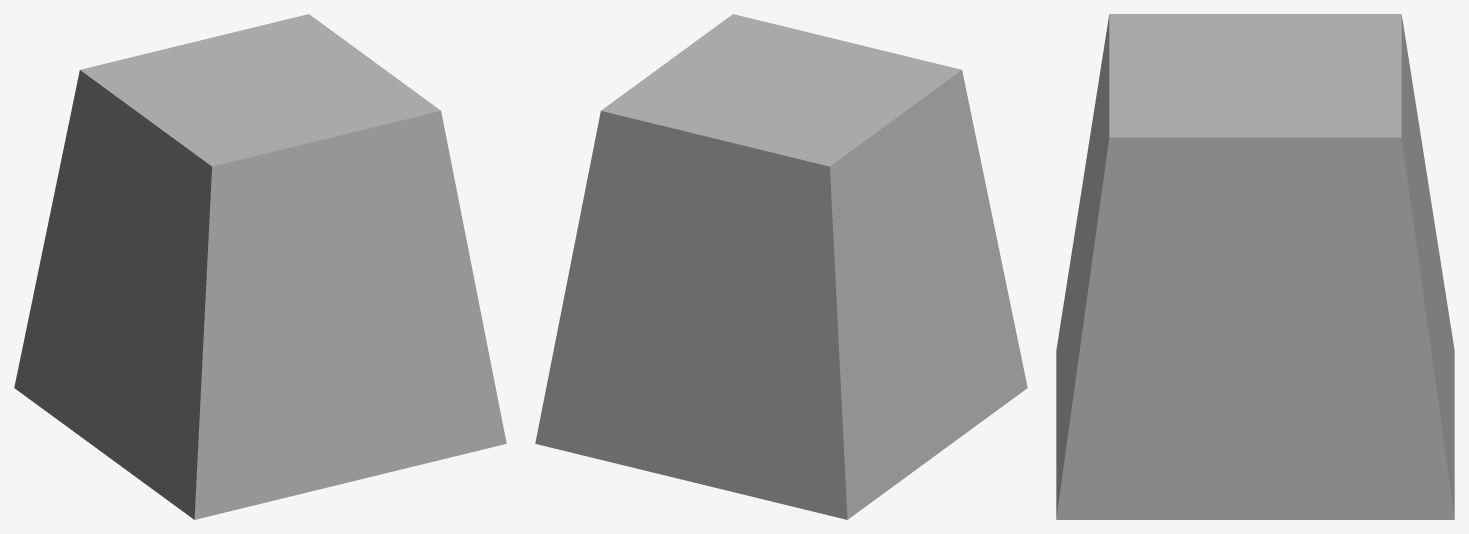
The model's file is Statue_LorongUtama (2).fbx.
3 renders of one model, left to right at view 1: azimuth 30°, elevation 25°; view 2: azimuth 150°, elevation 25°; view 3: azimuth 270°, elevation 25°, orthographic. The views are drawn at different scales.
Parts seen in each view (by area): view 1: Statue_LorongUtama (2); view 2: Statue_LorongUtama (2); view 3: Statue_LorongUtama (2).
Boxes of the visible parts, x1,y1,x2,y2 form: Statue_LorongUtama (2): (14, 14, 506, 519); Statue_LorongUtama (2): (535, 14, 1027, 519); Statue_LorongUtama (2): (1056, 14, 1454, 519).
Size of the model in its own units: 1.4 by 1.4 by 1.4.
Materials: 1 (1 with a texture image).
